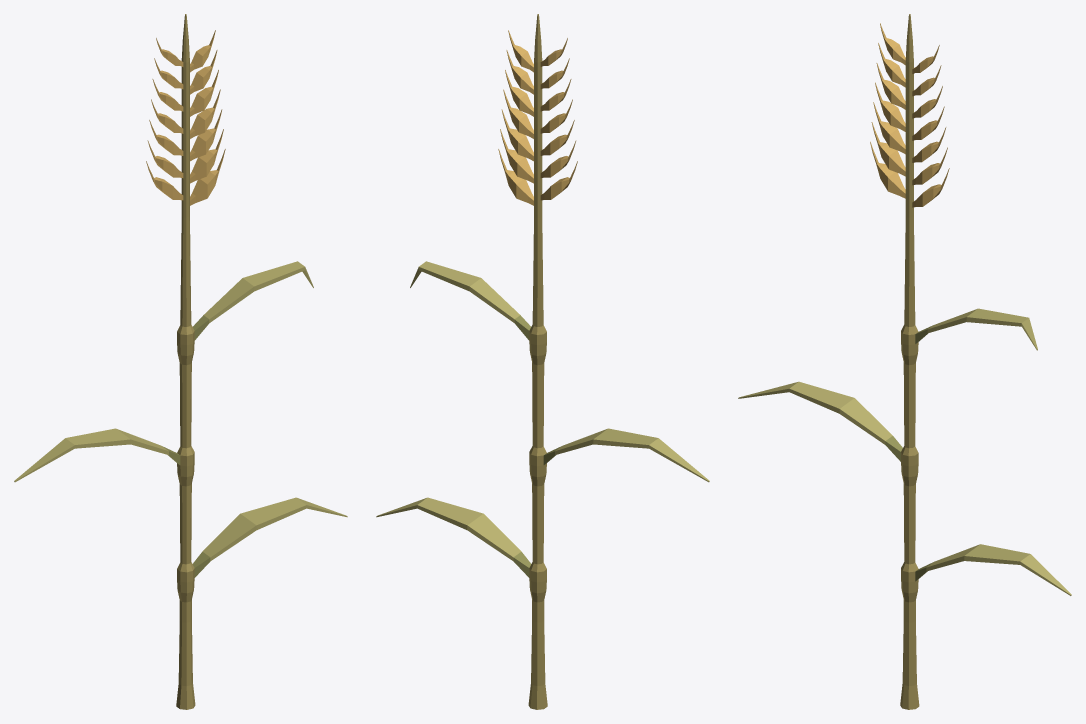
The picture shows the model from 3 angles, left to right: view 1: azimuth 30°, elevation 25°; view 2: azimuth 150°, elevation 25°; view 3: azimuth 330°, elevation 25°; orthographic projection.
Parts seen in each view (by area): view 1: ContinuousShortAwnWheat; view 2: ContinuousShortAwnWheat; view 3: ContinuousShortAwnWheat.
Boxes of the visible parts, x1=… form: ContinuousShortAwnWheat: x1=14, y1=14, x2=347, y2=709; ContinuousShortAwnWheat: x1=376, y1=14, x2=709, y2=709; ContinuousShortAwnWheat: x1=738, y1=14, x2=1071, y2=709.
Size of the model in its own units: 0.6896 by 1.37 by 0.058.
